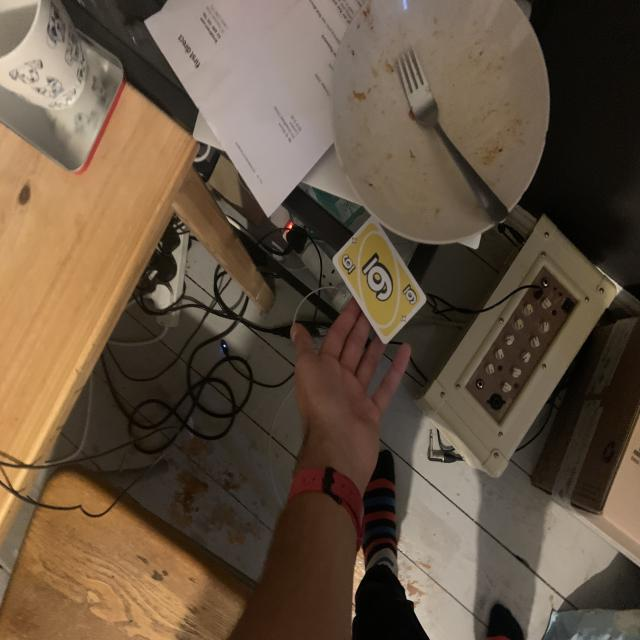lyellow-6: (337, 248, 361, 279)
